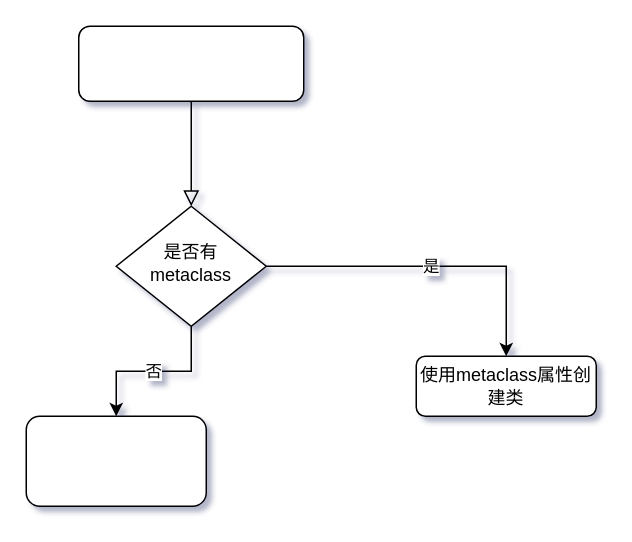
This 632x542 diagram has some shape labels left out. Here are the shapes that lost their labels. From the top down, the centre of each, then its label:
[190,63]: 当创建一个类的时候，类对象还没有在内存中创建
[115,460]: 用type函数来创建类
